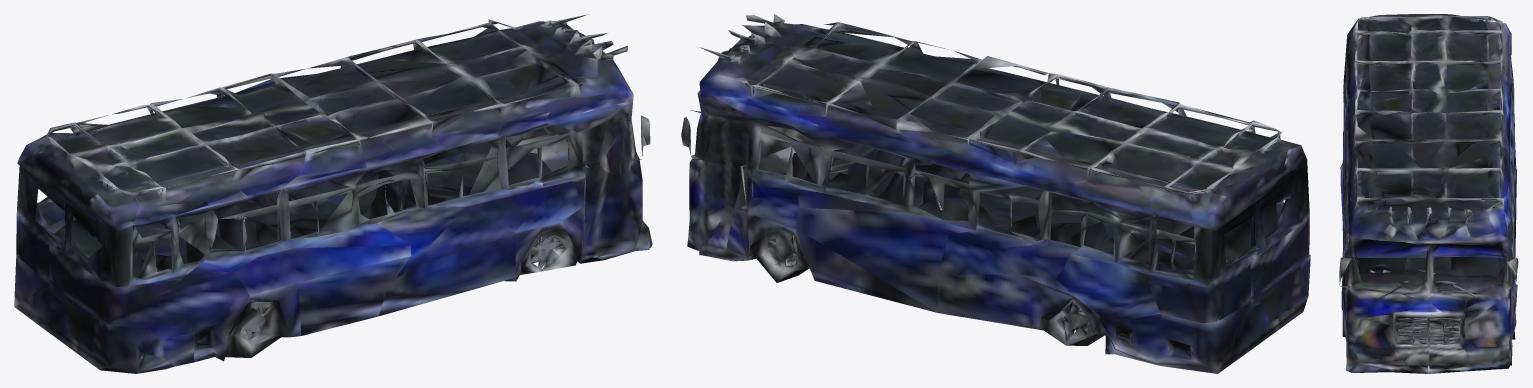
File: leyland_2.glb
3 renders of one model, left to right at view 1: azimuth 30°, elevation 25°; view 2: azimuth 150°, elevation 25°; view 3: azimuth 270°, elevation 25°, orthographic. The views are drawn at different scales.
Visible parts, largest first — view 1: tripo_node_a6cce581-2013-4235-90c8-87a85631530d; view 2: tripo_node_a6cce581-2013-4235-90c8-87a85631530d; view 3: tripo_node_a6cce581-2013-4235-90c8-87a85631530d.
Part boxes in pixels (x1=…): tripo_node_a6cce581-2013-4235-90c8-87a85631530d: x1=14, y1=14, x2=652, y2=373; tripo_node_a6cce581-2013-4235-90c8-87a85631530d: x1=681, y1=14, x2=1310, y2=373; tripo_node_a6cce581-2013-4235-90c8-87a85631530d: x1=1339, y1=14, x2=1518, y2=373.
Bounding box in the file's own units: 0.9977 × 0.3456 × 0.3401.
Materials: 1 (1 with a texture image).
